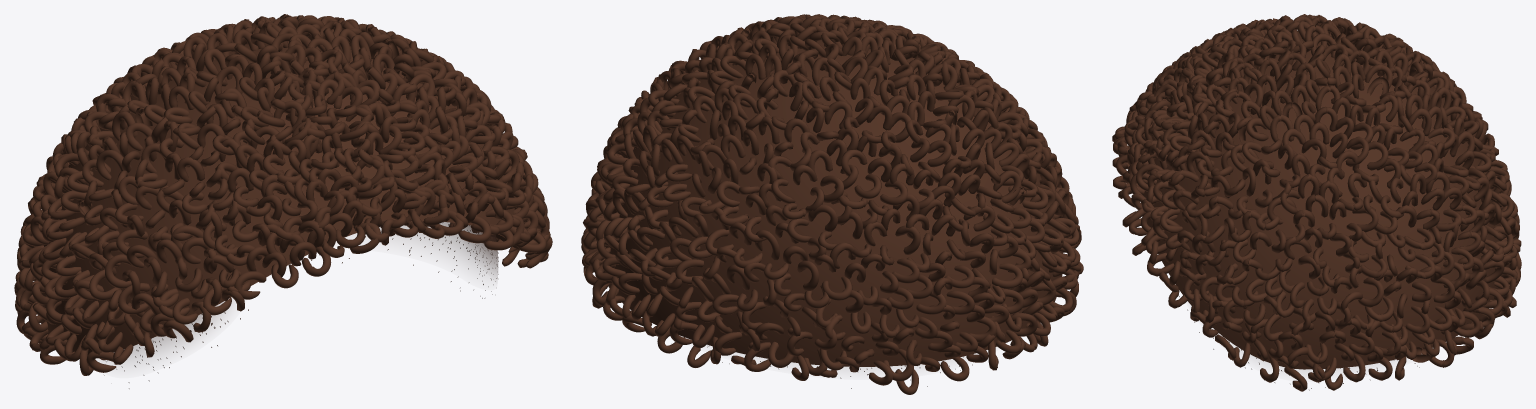
The model's file is Masculine-afro-hair.glb.
The picture shows the model from 3 angles, left to right: view 1: azimuth 30°, elevation 25°; view 2: azimuth 150°, elevation 25°; view 3: azimuth 270°, elevation 25°; orthographic projection. The views are drawn at different scales.
Parts seen in each view (by area): view 1: 226 hair / Hair / sculpted curl clusters227, 226 hair / Hair / curly taper density227; view 2: 226 hair / Hair / sculpted curl clusters227; view 3: 226 hair / Hair / sculpted curl clusters227.
Part boxes in pixels (box(x1,y1,x2,y2)): 226 hair / Hair / sculpted curl clusters227: box(14, 14, 552, 375); 226 hair / Hair / curly taper density227: box(128, 221, 498, 358); 226 hair / Hair / sculpted curl clusters227: box(581, 14, 1083, 394); 226 hair / Hair / sculpted curl clusters227: box(1112, 14, 1521, 391).
Bounding box in the file's own units: 1.21 × 0.746 × 0.9925.
